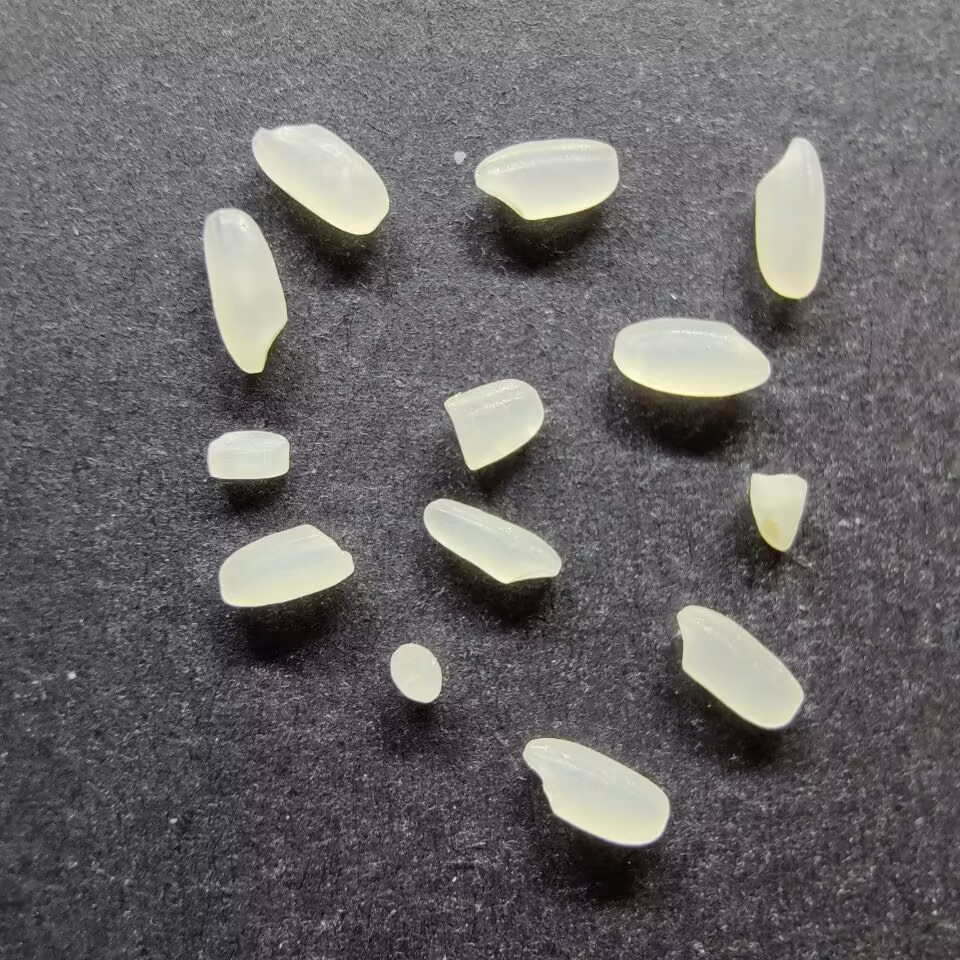broken: (441, 377, 545, 471), (748, 472, 810, 554), (203, 428, 290, 481), (389, 640, 444, 705)
rice: (519, 737, 673, 847), (675, 603, 804, 730), (250, 122, 393, 236), (200, 206, 290, 374), (611, 315, 773, 397), (422, 495, 564, 586), (472, 136, 621, 220), (752, 136, 827, 299), (216, 523, 354, 608)
